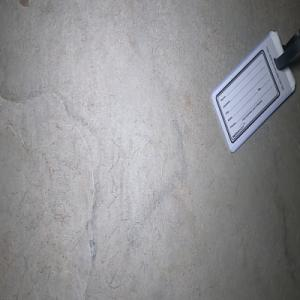LuggageTag: (209, 29, 300, 154)
